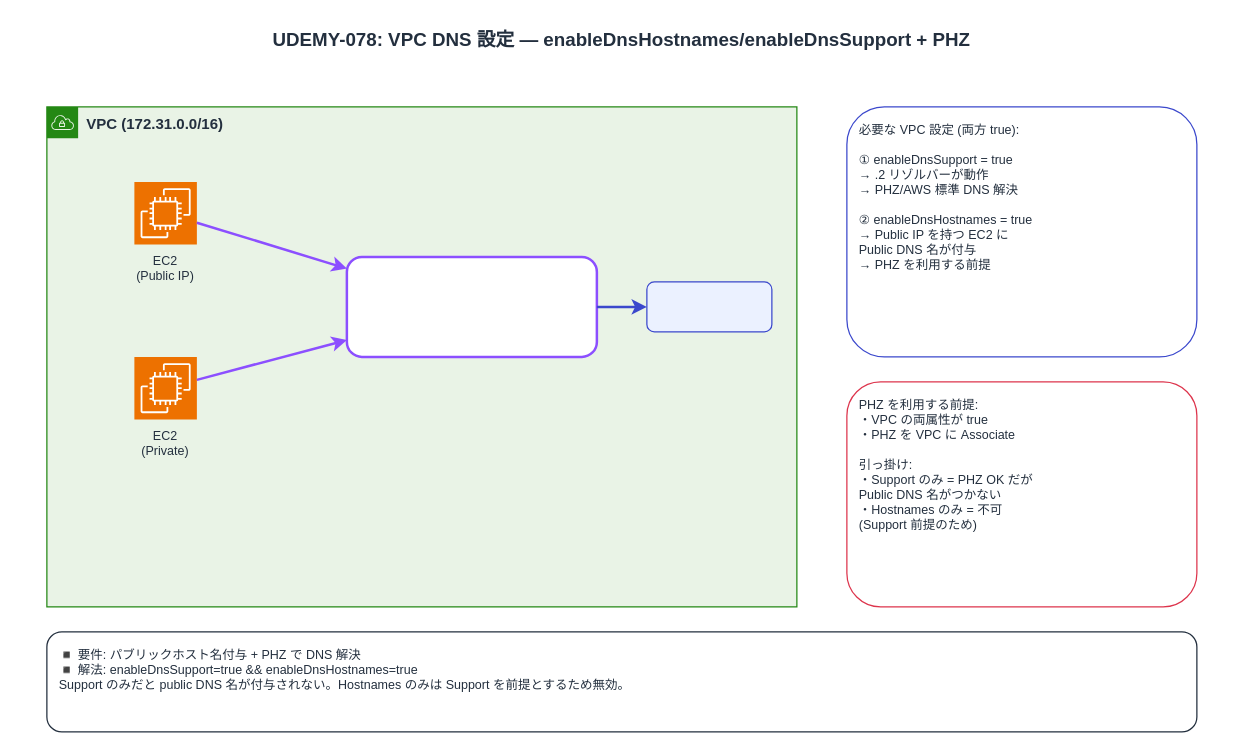
The diagram is 1243 pixels wide and 754 high, and some of its shapes have lost their labels. Here are the shapes that lost their labels. From the top down, the centre of each, then its label:
pixel 471 306: Route 53 Resolver (.2 リゾルバー)
pixel 709 306: PHZ
